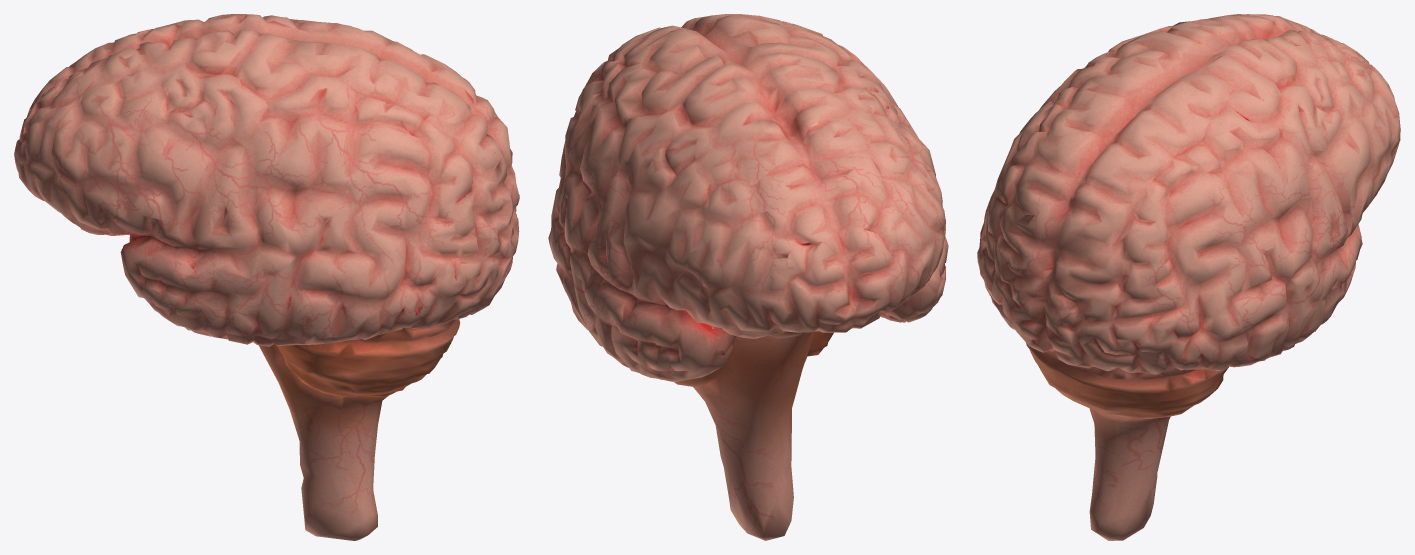
File: brain.glb
3 renders of one model, left to right at view 1: azimuth 30°, elevation 25°; view 2: azimuth 150°, elevation 25°; view 3: azimuth 270°, elevation 25°, orthographic. The views are drawn at different scales.
Visible parts, largest first — view 1: Icosphere; view 2: Icosphere; view 3: Icosphere.
Boxes of the visible parts, <box> form: Icosphere: <box>14,14,519,540</box>; Icosphere: <box>548,14,948,540</box>; Icosphere: <box>977,14,1400,540</box>.
Bounding box in the file's own units: 4.15 × 4.88 × 3.92.
Materials: 1 (1 with a texture image).
